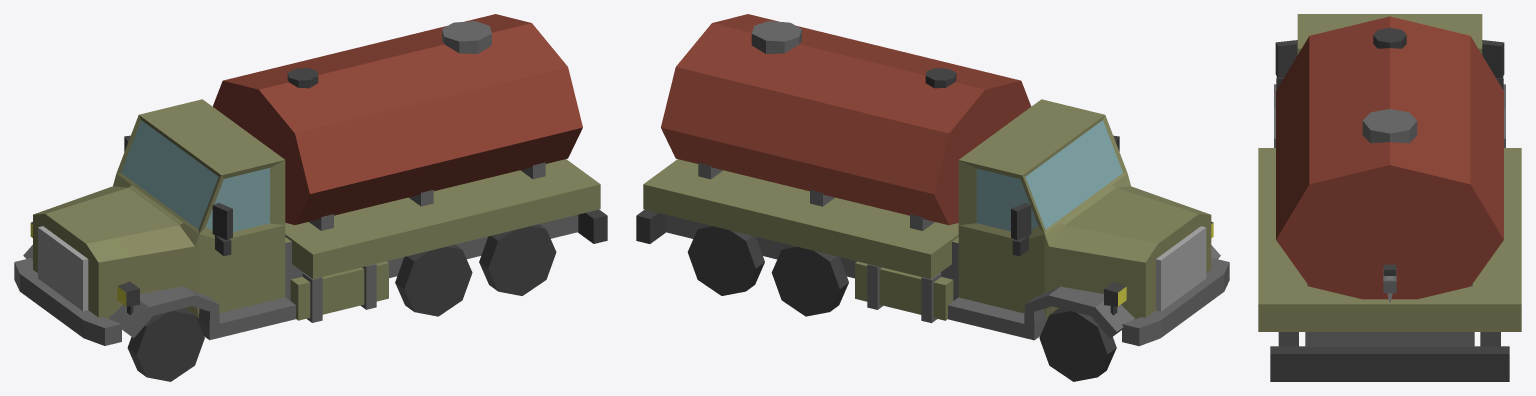
Rendered from low_poly_truck_tank.glb.
3 renders of one model, left to right at view 1: azimuth 30°, elevation 25°; view 2: azimuth 150°, elevation 25°; view 3: azimuth 270°, elevation 25°, orthographic. The views are drawn at different scales.
Visible parts, largest first — view 1: Cube.000; view 2: Cube.000; view 3: Cube.000.
Part boxes in pixels (x1,y1,x2,y2): Cube.000: [14, 14, 607, 381]; Cube.000: [636, 14, 1229, 381]; Cube.000: [1258, 14, 1521, 381].
Bounding box in the file's own units: 1089 × 474 × 442.
